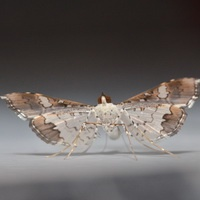insect: (0, 80, 199, 199)
